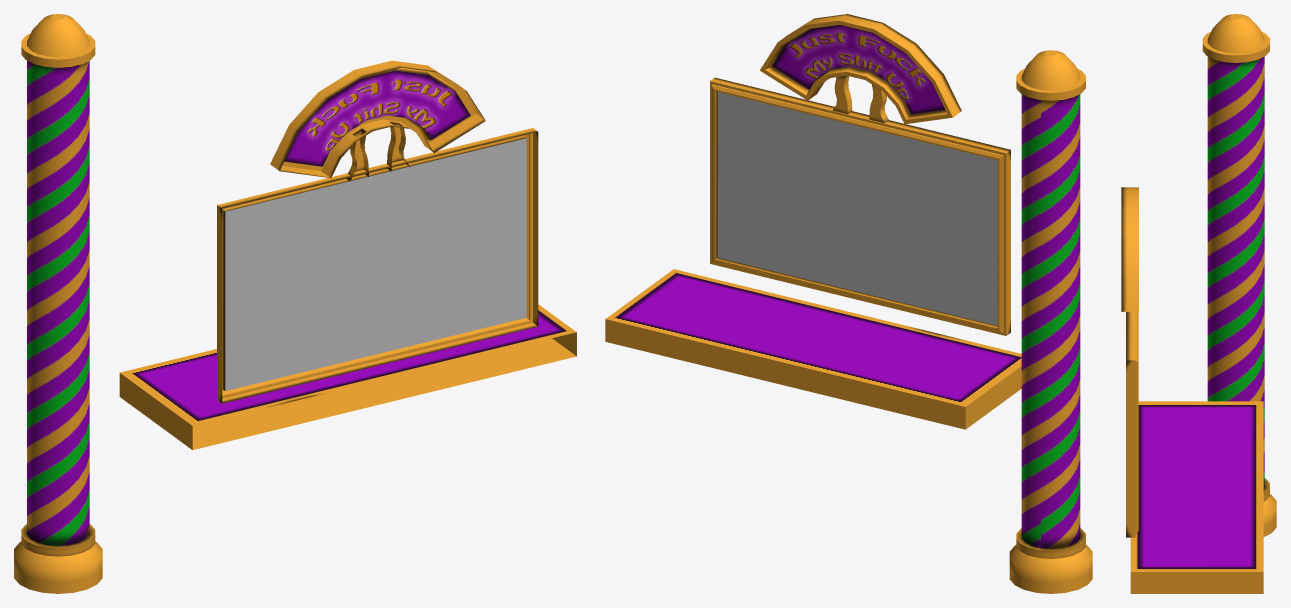
The model's file is Environmental.FBX.
3 renders of one model, left to right at view 1: azimuth 30°, elevation 25°; view 2: azimuth 150°, elevation 25°; view 3: azimuth 270°, elevation 25°, orthographic. The views are drawn at different scales.
Visible parts, largest first — view 1: Object012, Cylinder010, Box011, Object014; view 2: Object012, Object014, Cylinder010, Box011; view 3: Object014, Cylinder010, Box011.
Boxes of the visible parts, left/top/right/bottom form: Object012: left=225, top=138, right=526, bottom=390; Cylinder010: left=14, top=14, right=102, bottom=593; Box011: left=217, top=60, right=538, bottom=403; Object014: left=119, top=304, right=576, bottom=450; Object012: left=717, top=92, right=997, bottom=325; Object014: left=605, top=269, right=1021, bottom=429; Cylinder010: left=1009, top=50, right=1092, bottom=593; Box011: left=710, top=14, right=1010, bottom=335; Object014: left=1130, top=401, right=1263, bottom=593; Cylinder010: left=1202, top=14, right=1276, bottom=536; Box011: left=1121, top=187, right=1138, bottom=537.
Size of the model in its own units: 98.35 by 105 by 29.07.
